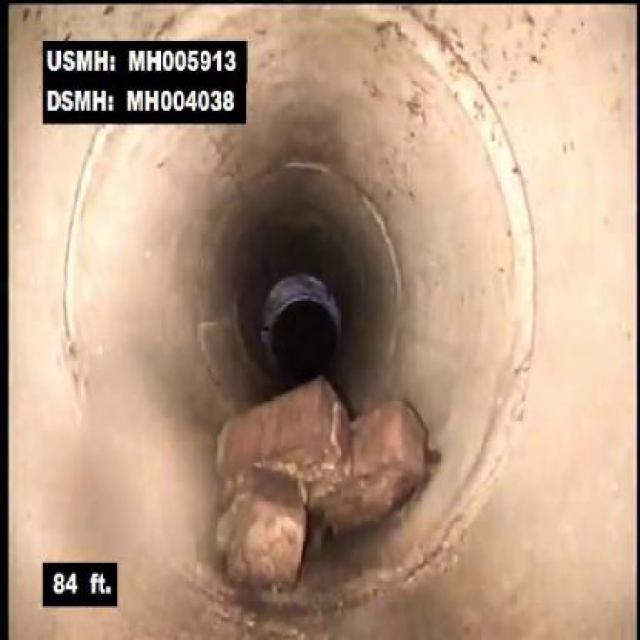Obstacle: (182, 350, 443, 608)
